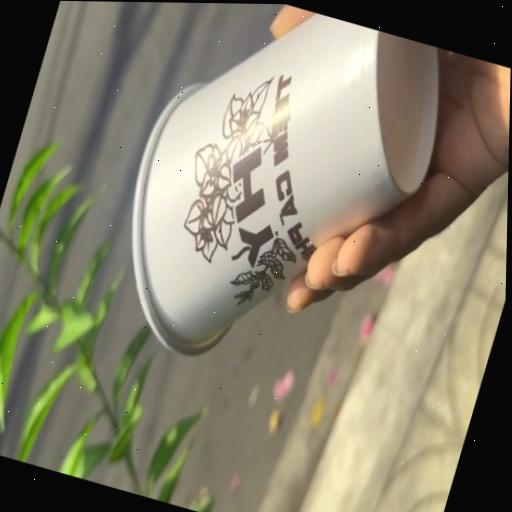Ly_giay: (132, 12, 438, 354)
